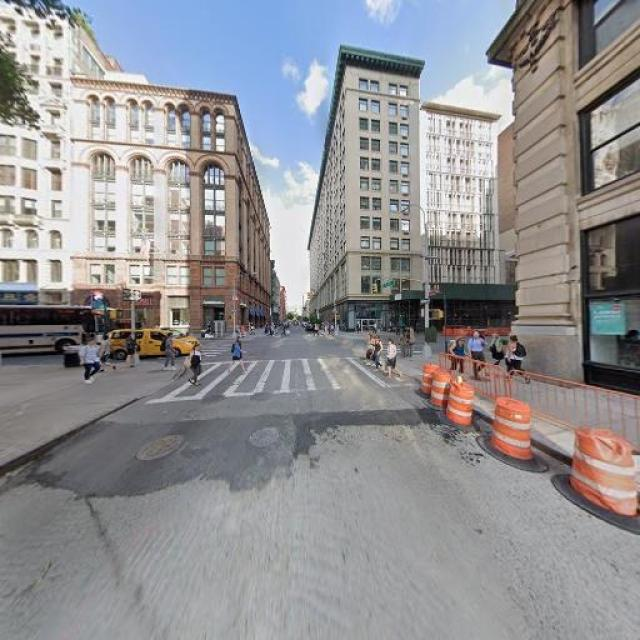Building: (309, 45, 500, 335), (514, 1, 640, 404), (82, 83, 233, 333), (1, 1, 75, 333), (235, 98, 270, 333)
